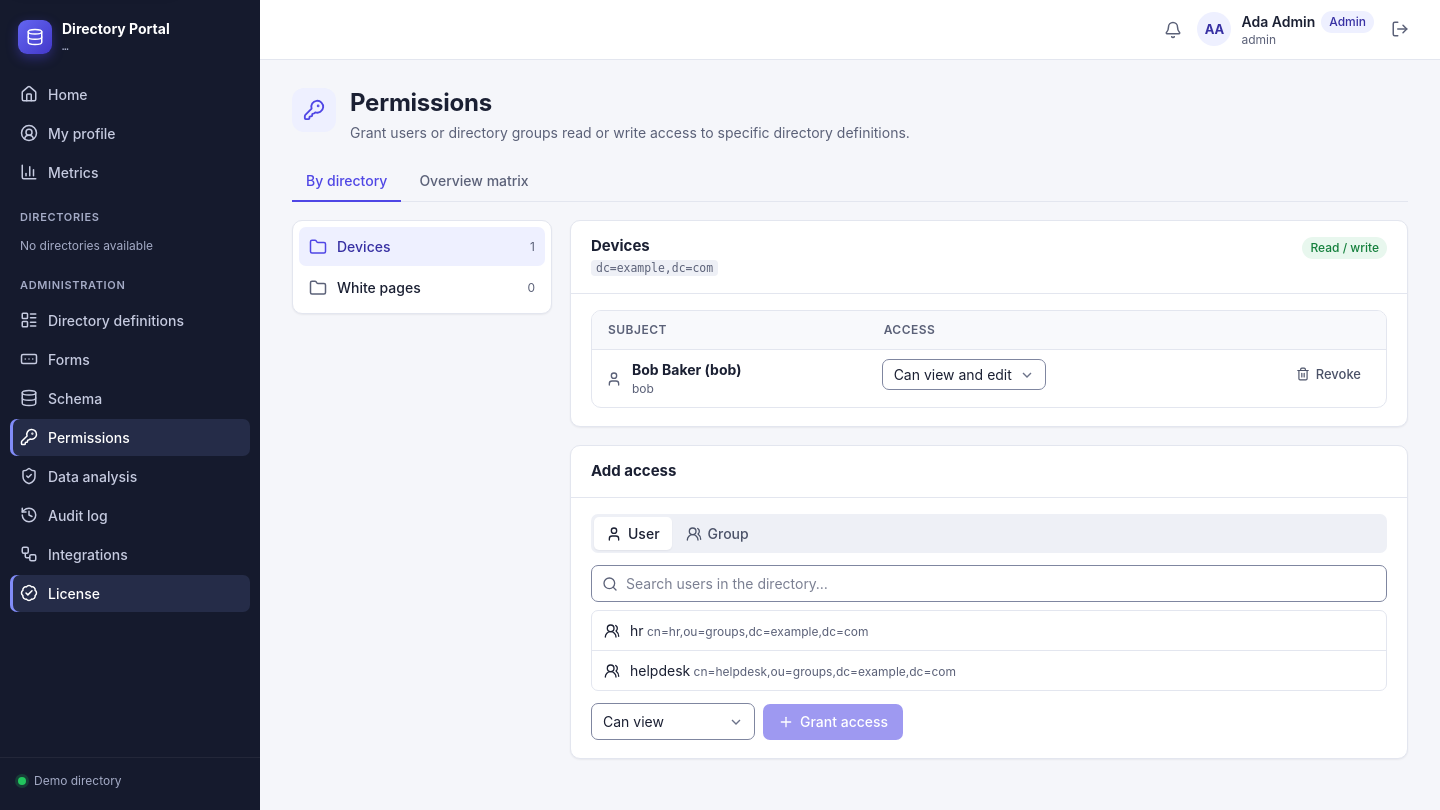
Scenario: permissions page › grants the picked group the chosen access, changes a grant and revokes one
This screenshot has width=1440, height=810.
Expected: the text "Bob Baker (bob)" is shown, [632,361,741,378]
Click the radio button labelled "Group": (717,534) [674,517,761,550]
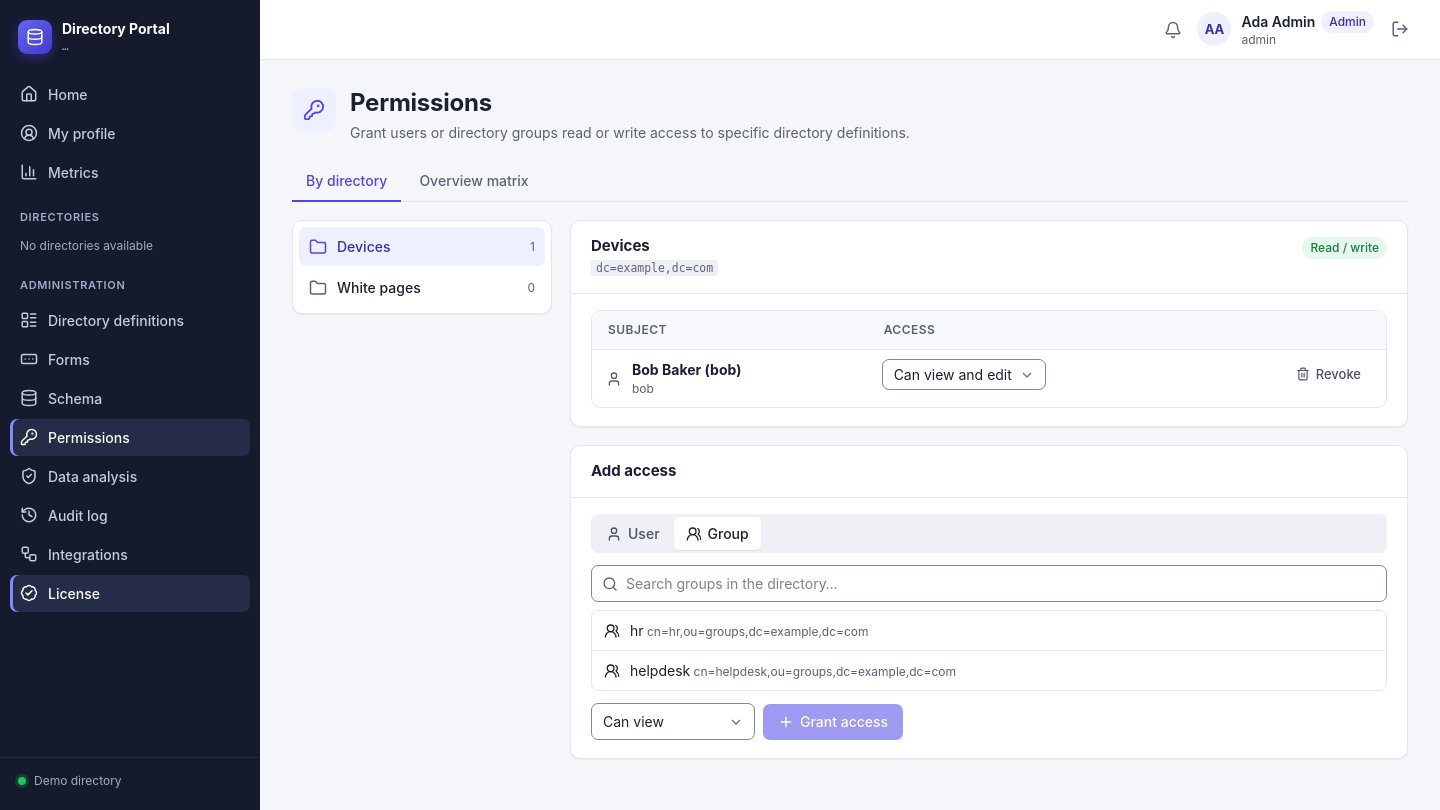
In the field labelled "Search groups": (989,584) [591,565,1387,602], type "h"
Click the button named "Group hr": (758,632) [592,611,1386,650]
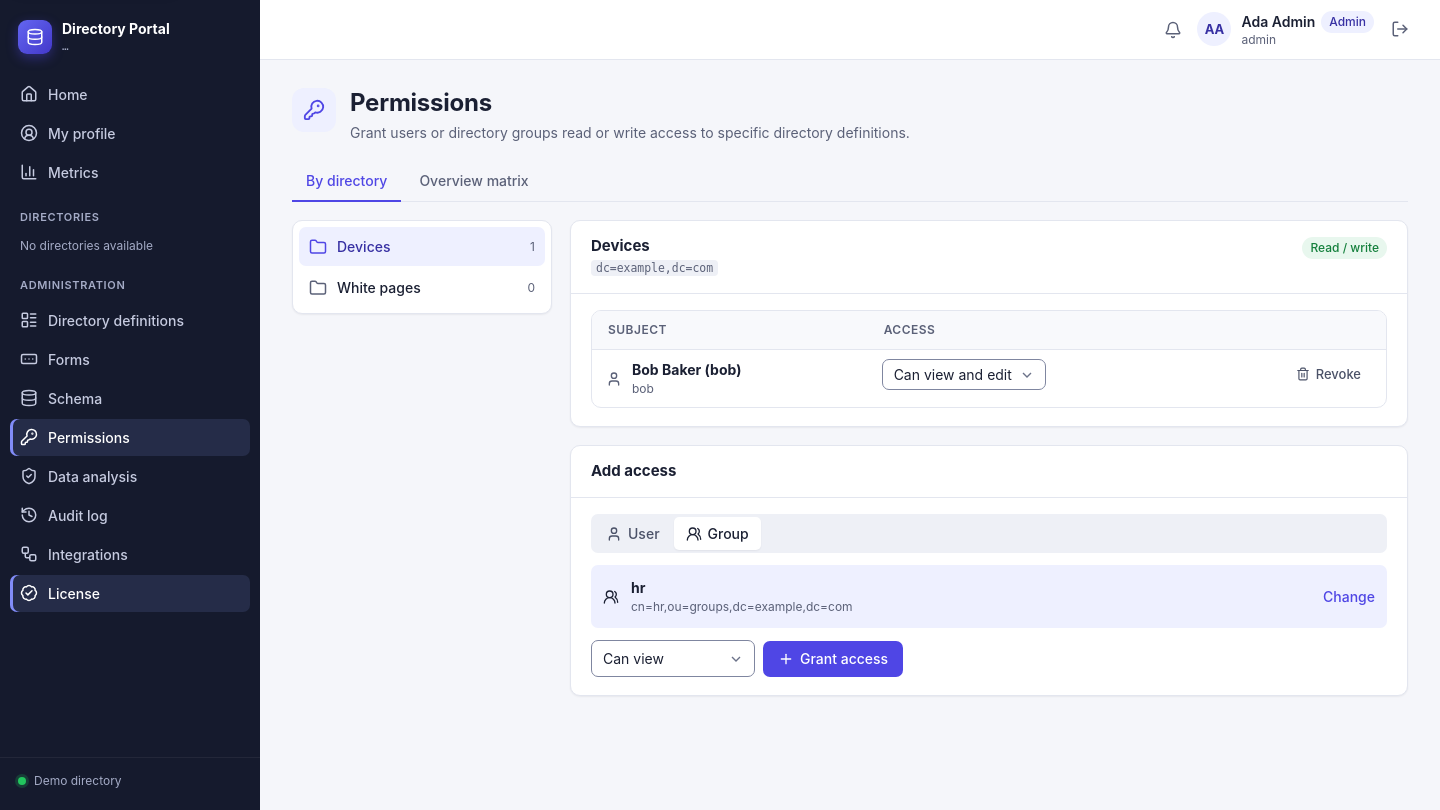
Select "Can view and edit" in the dropdown named "Access level": (673,658) [591,640,755,677]
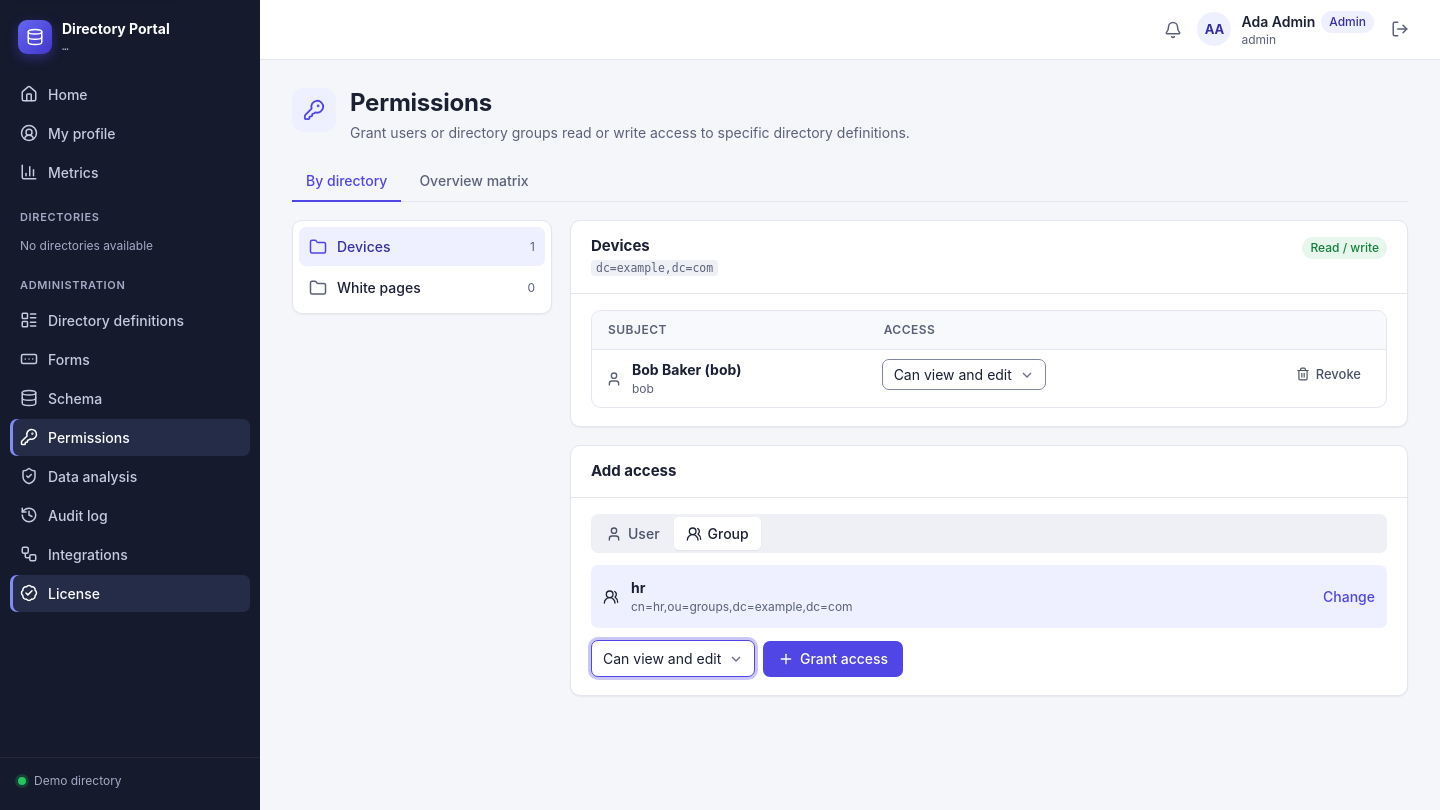
Click the button "Grant access": (833,658) [763,640,903,676]
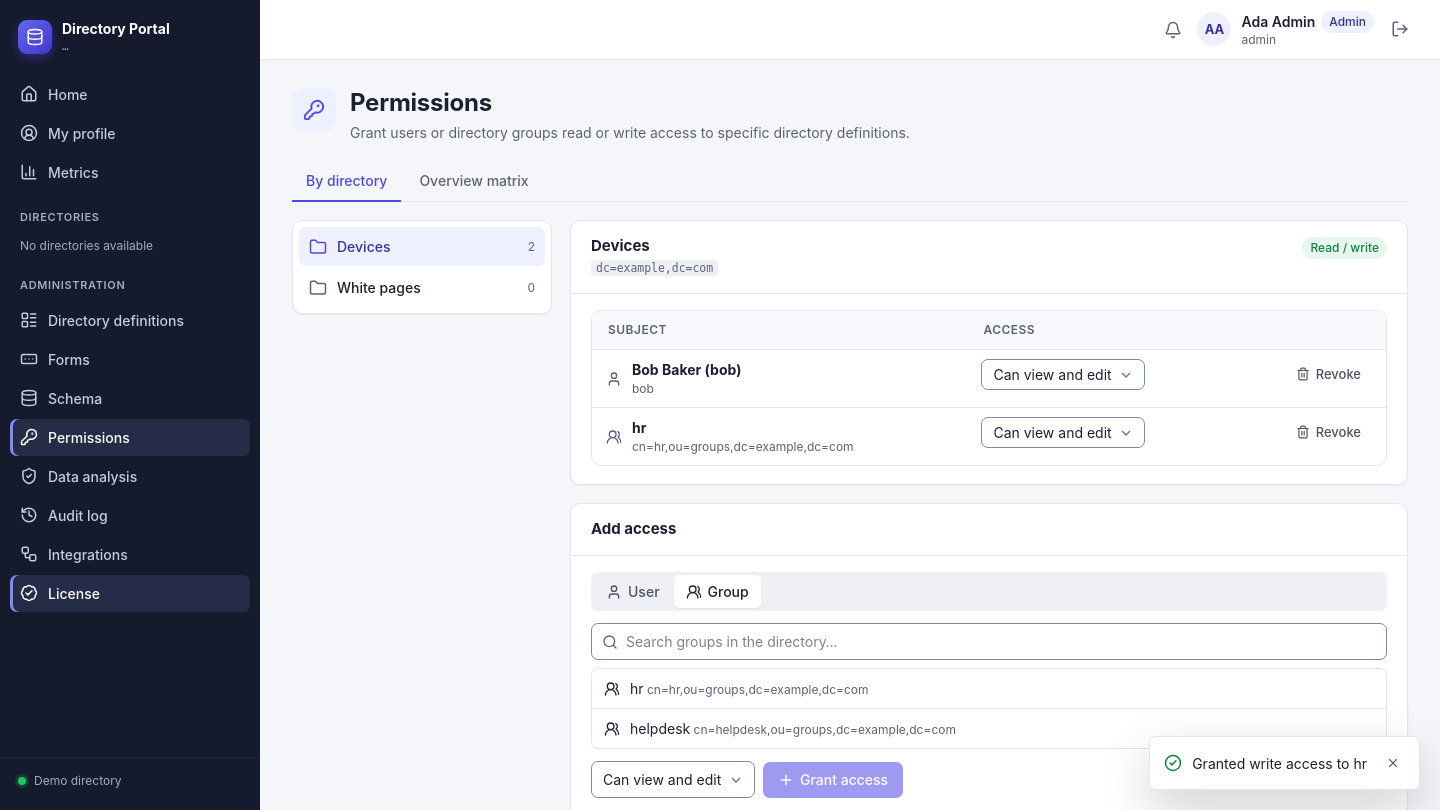
Expected: the text "Granted write access to hr" is shown, [1192,752,1367,774]
Select "Can view" in the dropdown named "Access for Bob Baker (bob)": (1063,375) [981,359,1145,390]
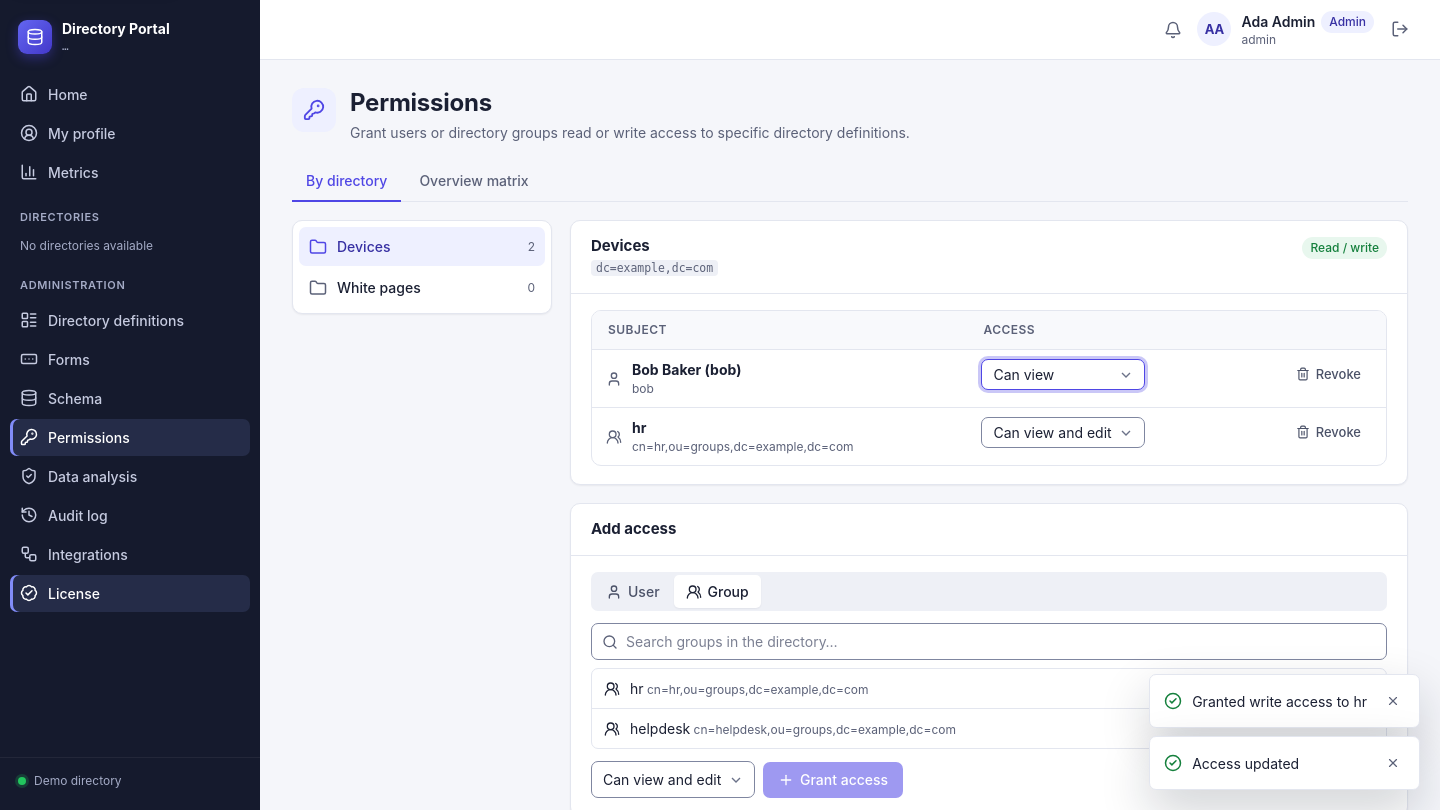
Expected: the text "Access updated" is shown, [1192,754,1299,772]
Click the 2nd button "Revoke": (1328,432) [1285,417,1372,447]
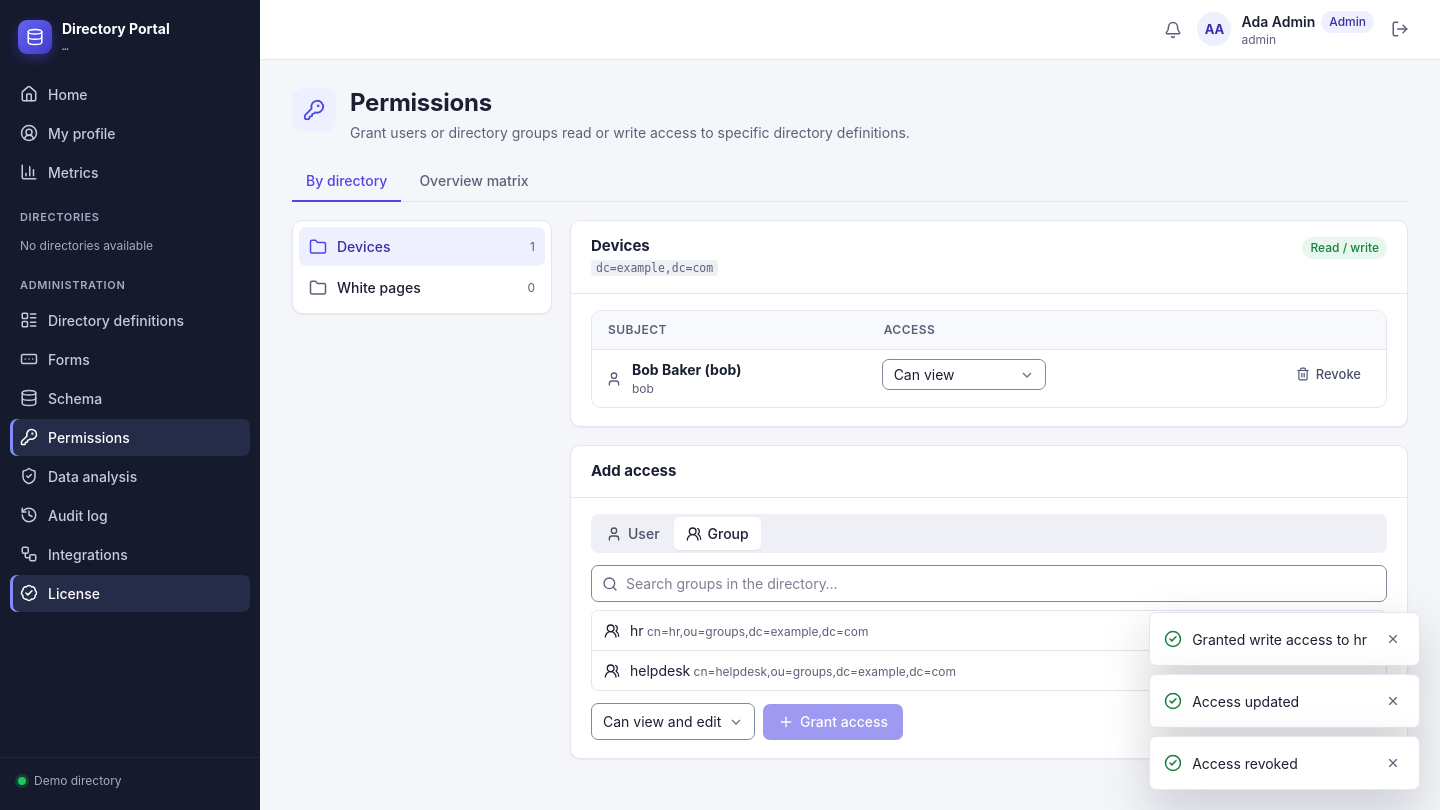
Expected: the text "Access revoked" is shown, [1192,754,1298,772]
